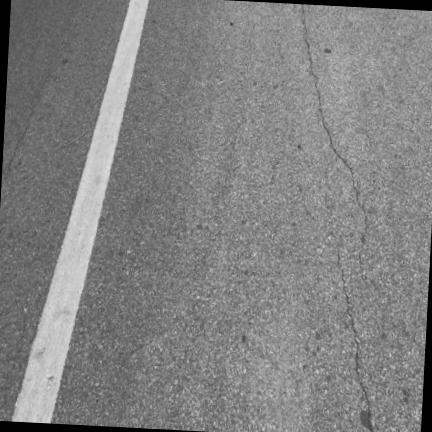Road: (51, 0, 431, 431)
